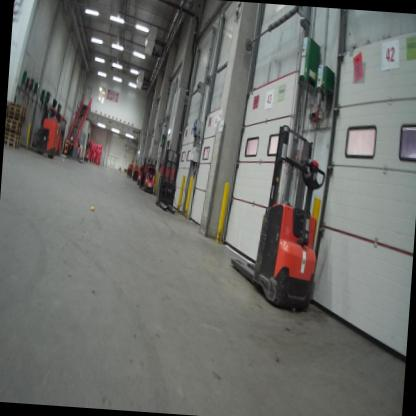pallet: (4, 136, 21, 149), (5, 122, 23, 132), (8, 109, 26, 119), (5, 125, 21, 136), (6, 118, 23, 128), (10, 104, 26, 114), (4, 135, 21, 144), (8, 114, 25, 123), (11, 100, 27, 109), (5, 131, 22, 139)
pallet_truck: (226, 116, 336, 322), (151, 144, 183, 217), (26, 105, 64, 162), (137, 152, 159, 199), (55, 114, 69, 157), (123, 153, 135, 176), (138, 163, 148, 189), (131, 161, 142, 184)
